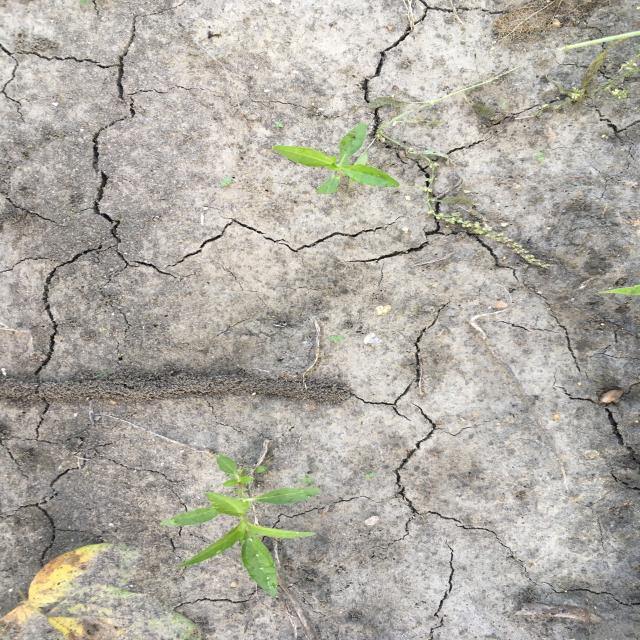Eclipta: (158, 454, 324, 598), (271, 122, 402, 197)
